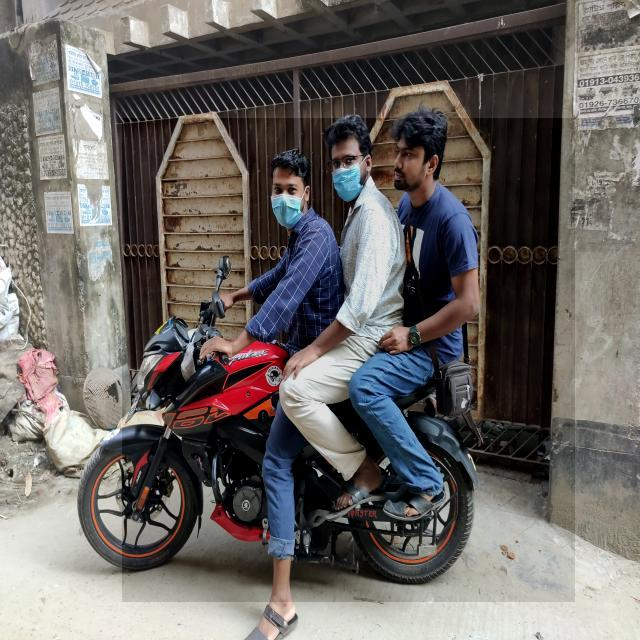Overloading: (122, 118, 575, 602)
